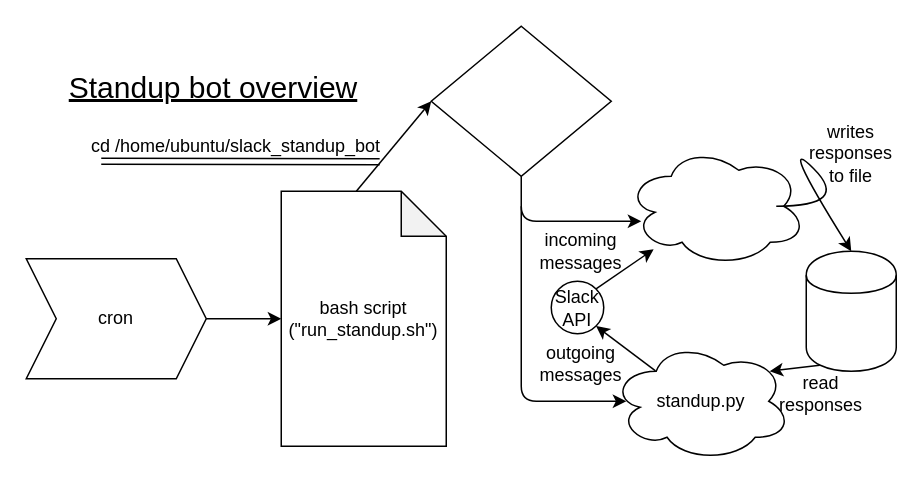
Image size: 923x488. Some labels were removed from this diagram. The shapes that lost their labels are listed below. From the top down, each one's centre as x and y in pixels, then its label:
the point at 520,100: activate virtual environment
the point at 715,205: listener.py
